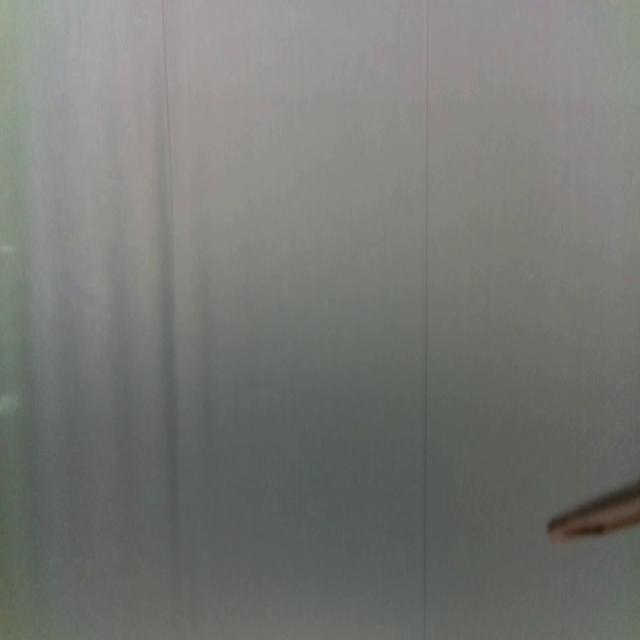crease: (422, 0, 432, 640), (160, 0, 176, 273)
